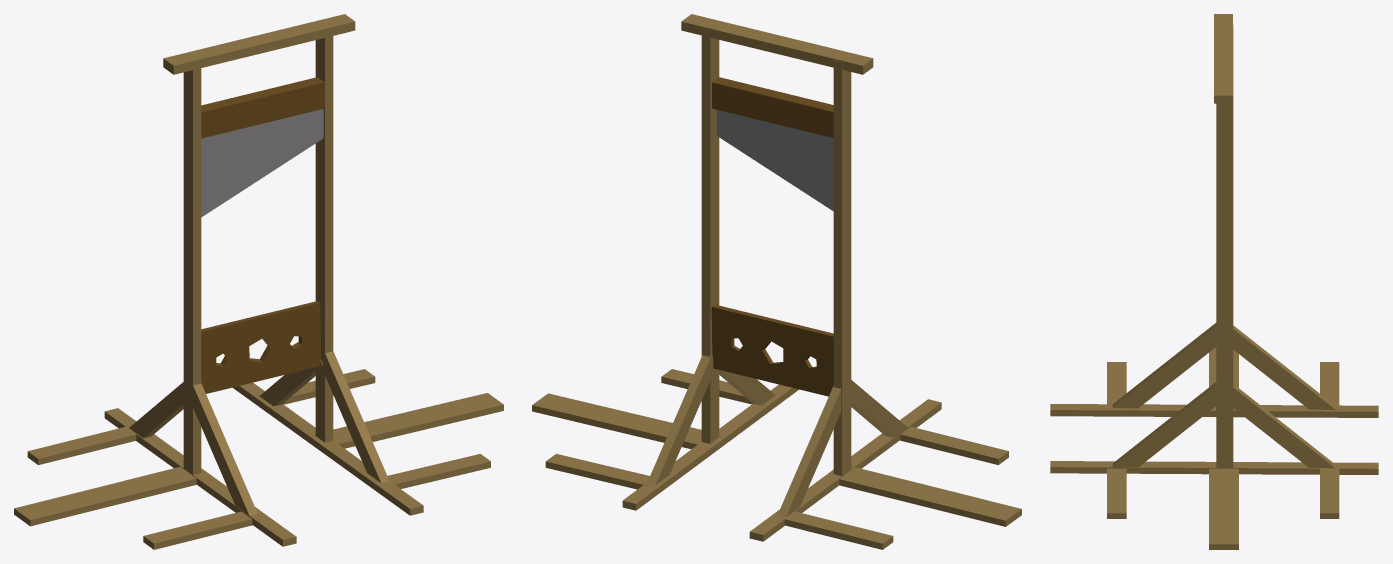
The model's file is mesh_gillotine.fbx.
3 renders of one model, left to right at view 1: azimuth 30°, elevation 25°; view 2: azimuth 150°, elevation 25°; view 3: azimuth 270°, elevation 25°, orthographic. The views are drawn at different scales.
Visible parts, largest first — view 1: gillotine; view 2: gillotine; view 3: gillotine.
Part boxes in pixels (box(x1,y1,x2,y2)): gillotine: box(14, 14, 503, 549); gillotine: box(532, 14, 1021, 549); gillotine: box(1050, 14, 1378, 549).
Size of the model in its own units: 451 by 385 by 294.
1 material, 1 textured.
